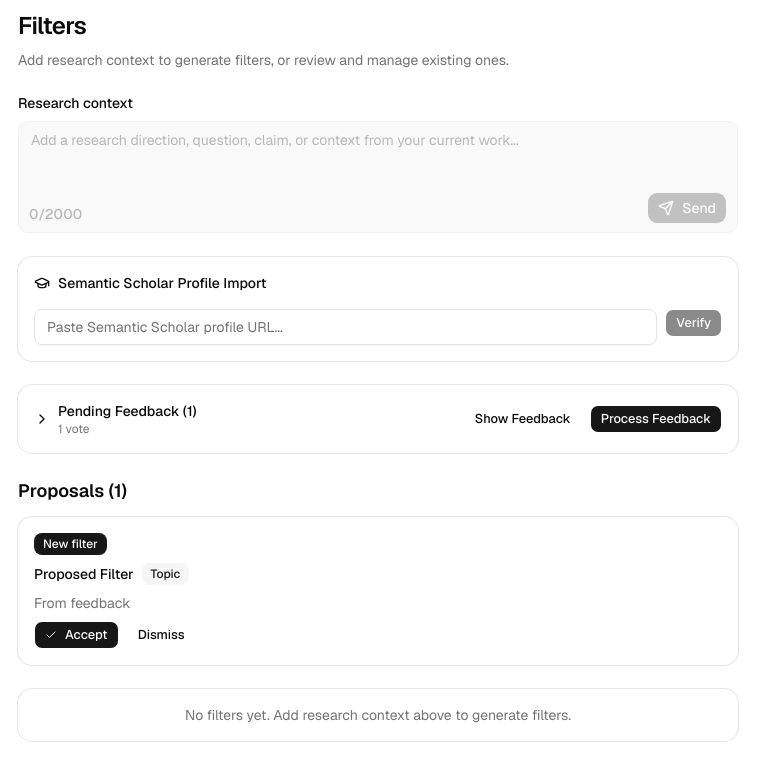
FiltersPage › shows proposals and completion banner after feedback job finishes
What coordinates should you click on to do the following:
click the button "Process Feedback"
I would click on:
 (656, 419)
Its box is left=590, top=405, right=722, bottom=433.
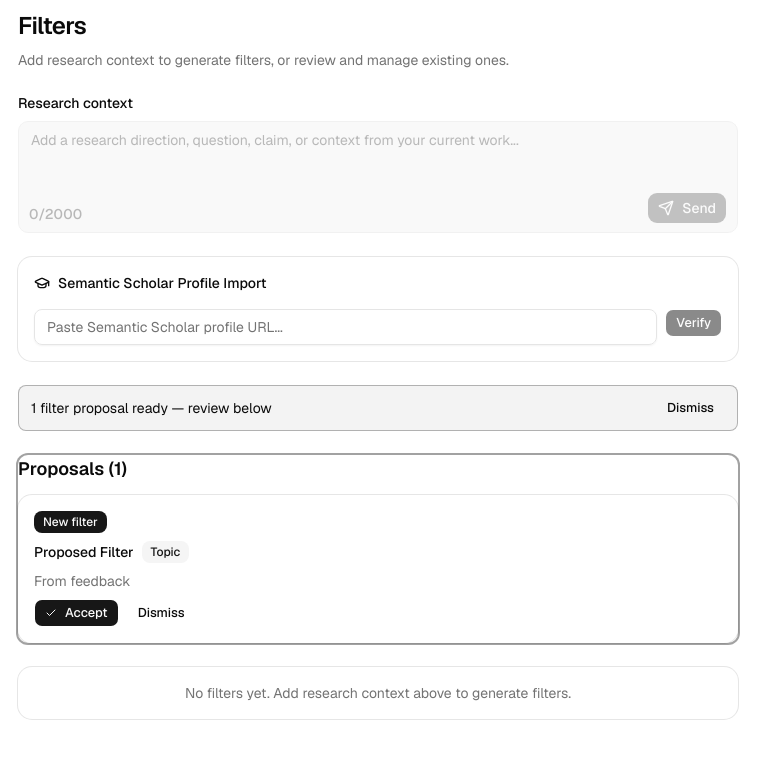
Expected: the heading "Proposals (1)" is shown, left=18, top=457, right=127, bottom=480
Expected: the text "1 filter proposal ready — review below" is shown, left=31, top=398, right=272, bottom=418
